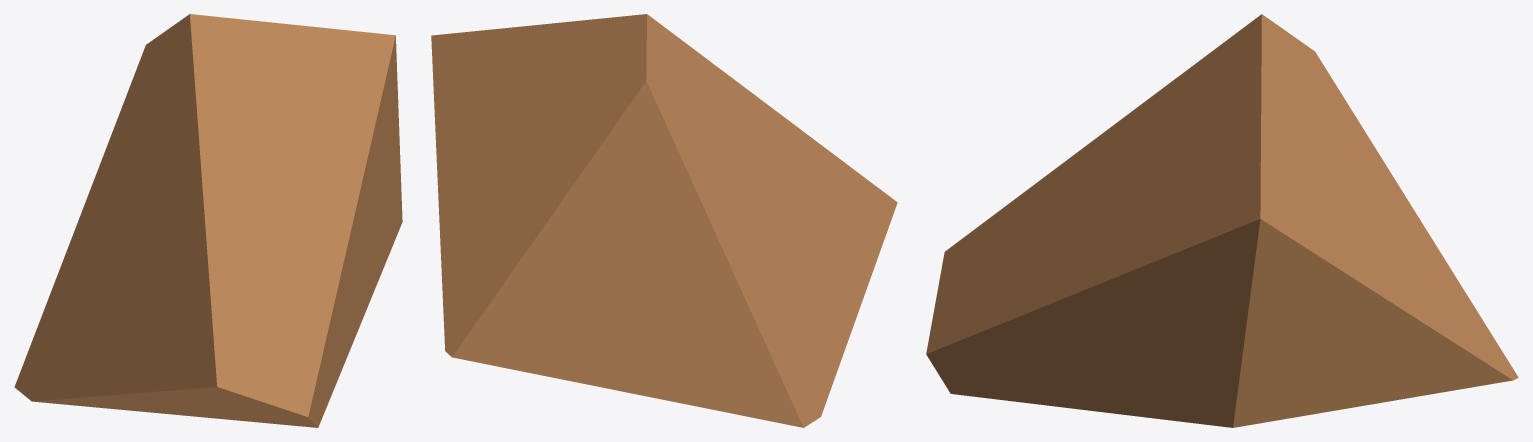
Rendered from asteroid_2_2.glb.
3 views of the same model, side by side, from view 1: azimuth 30°, elevation 25°; view 2: azimuth 150°, elevation 25°; view 3: azimuth 270°, elevation 25° (orthographic). The views are drawn at different scales.
Parts seen in each view (by area): view 1: Asteriod_cell_2_2; view 2: Asteriod_cell_2_2; view 3: Asteriod_cell_2_2.
Boxes of the visible parts, box(x1,y1,x2,y2) form: Asteriod_cell_2_2: box(14, 14, 402, 427); Asteriod_cell_2_2: box(431, 14, 897, 427); Asteriod_cell_2_2: box(926, 14, 1518, 427).
Size of the model in its own units: 0.9365 by 0.8415 by 1.09.
